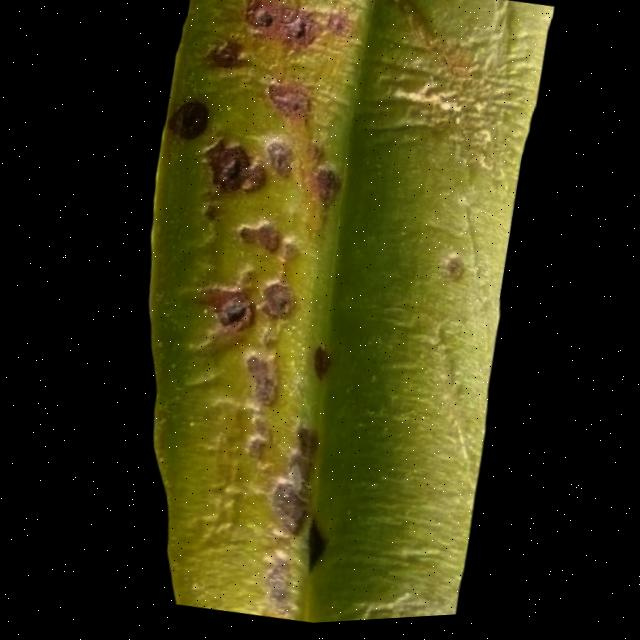mite: (137, 37, 352, 351), (158, 0, 333, 209), (157, 96, 277, 203), (200, 139, 271, 202), (197, 32, 257, 82), (165, 98, 212, 145), (234, 218, 285, 258), (255, 280, 298, 326), (212, 294, 254, 337), (297, 522, 328, 577), (308, 165, 342, 212), (204, 39, 247, 75), (261, 141, 298, 182), (284, 19, 314, 47), (251, 11, 277, 34)
